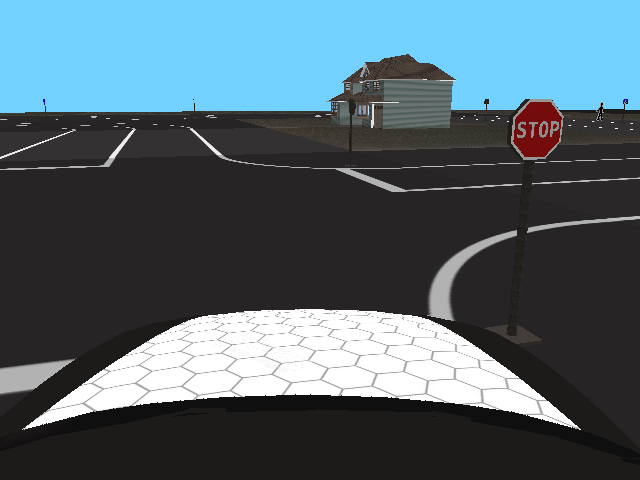stop: (509, 99, 563, 160)
